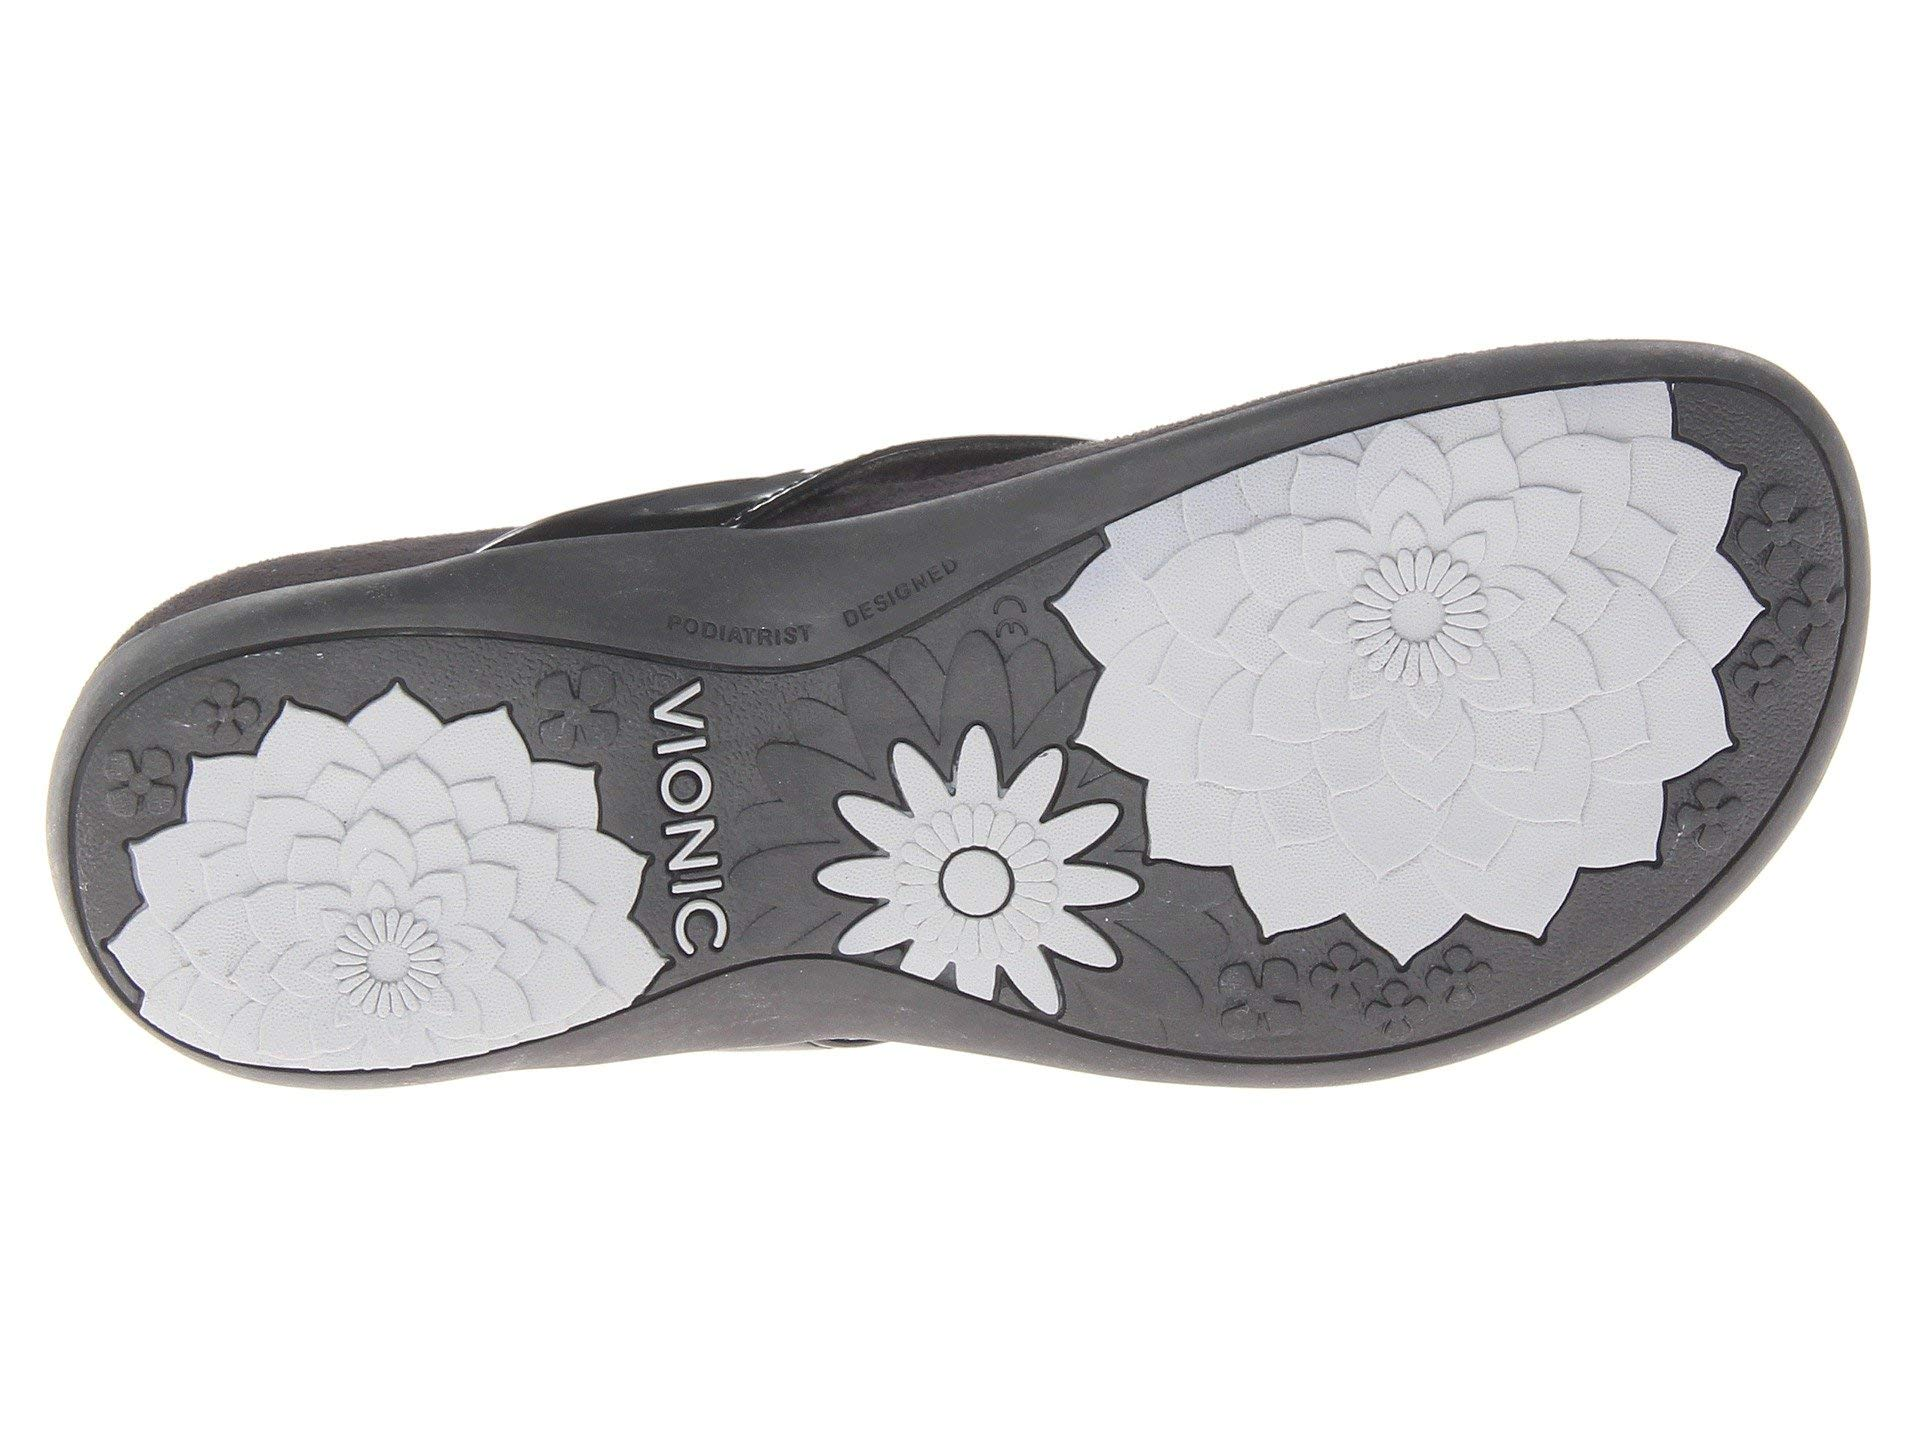circle: (791, 714, 1179, 1050), (1293, 467, 1534, 709), (611, 664, 774, 979), (1725, 458, 1857, 729), (639, 564, 992, 649), (304, 898, 469, 1032), (943, 841, 1027, 938)
line: (150, 625, 584, 679)
other: (1293, 467, 1534, 709), (943, 841, 1027, 938)
quad: (1725, 458, 1857, 729)
star: (791, 714, 1179, 1050), (304, 898, 469, 1032)
text: (611, 664, 774, 979), (639, 564, 992, 649)
